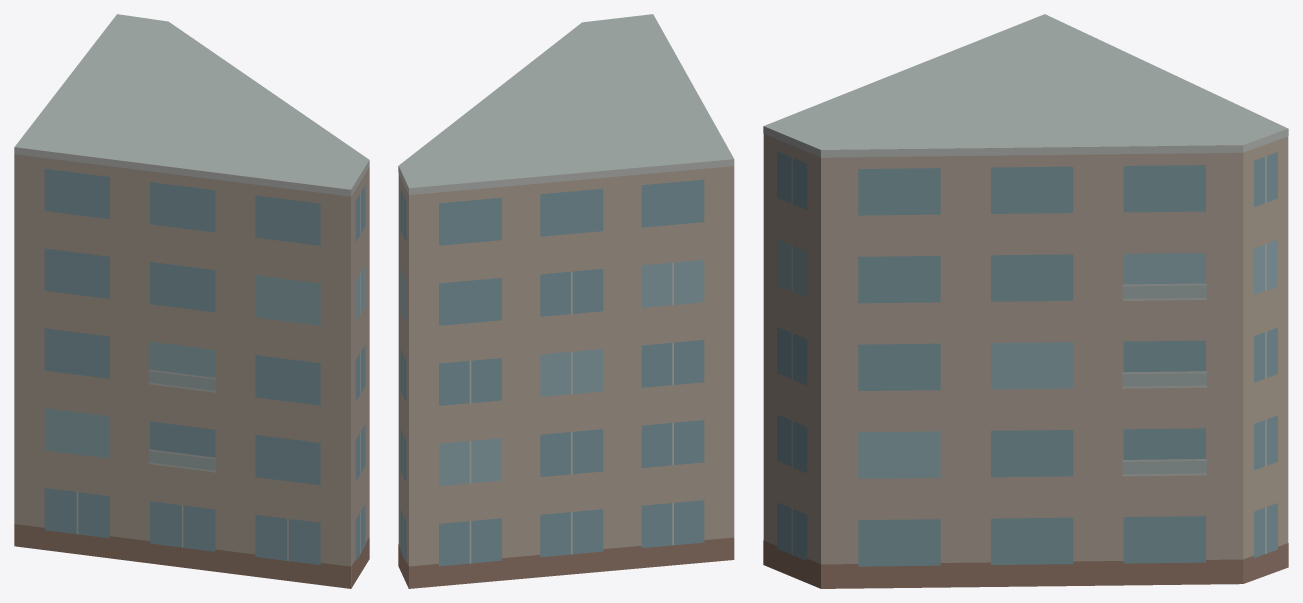
Rendered from survey-upis-32713888.glb.
3 views of the same model, side by side, from view 1: azimuth 30°, elevation 25°; view 2: azimuth 150°, elevation 25°; view 3: azimuth 270°, elevation 25° (orthographic). The views are drawn at different scales.
Parts seen in each view (by area): view 1: survey-upis-32713888.tmp; view 2: survey-upis-32713888.tmp; view 3: survey-upis-32713888.tmp.
Part boxes in pixels (x1,y1,x2,y2): survey-upis-32713888.tmp: [14, 14, 369, 588]; survey-upis-32713888.tmp: [398, 14, 734, 588]; survey-upis-32713888.tmp: [763, 14, 1288, 588].
Bounding box in the file's own units: 9.38 × 14.1 × 15.29.
